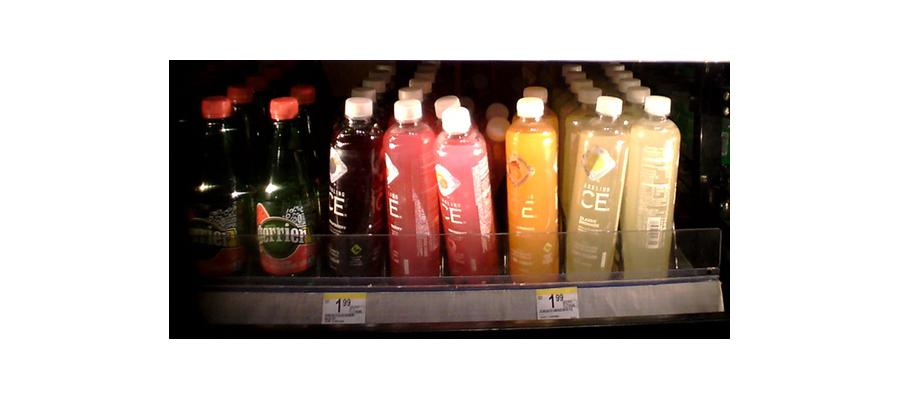bottle: (563, 96, 629, 280), (252, 98, 316, 282), (503, 94, 564, 283), (434, 106, 500, 280), (323, 94, 383, 284), (625, 92, 682, 280), (383, 97, 437, 281), (190, 105, 243, 283)
